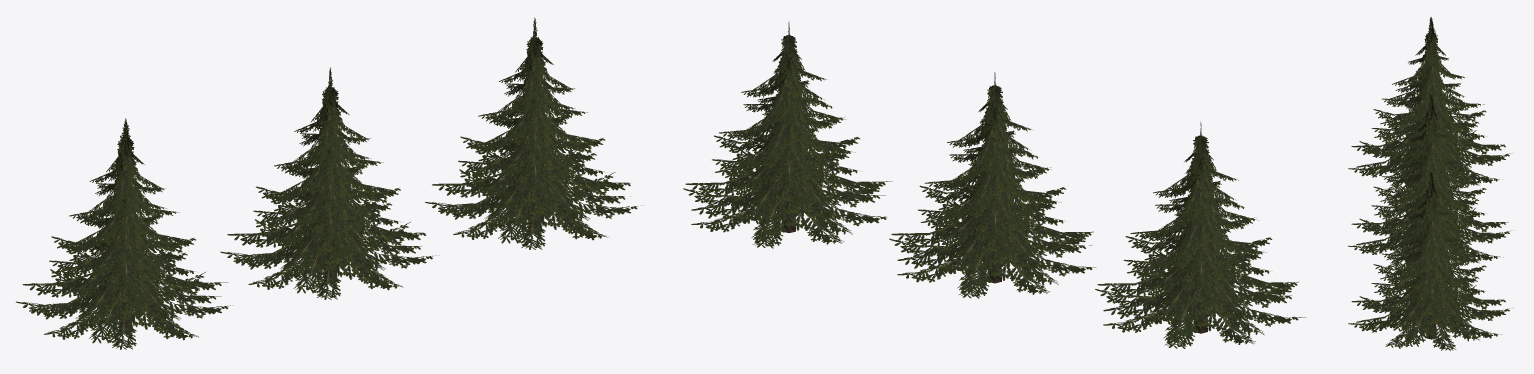
The model's file is fir_sapling_lod.glb.
3 renders of one model, left to right at view 1: azimuth 30°, elevation 25°; view 2: azimuth 150°, elevation 25°; view 3: azimuth 270°, elevation 25°, orthographic. The views are drawn at different scales.
Visible parts, largest first — view 1: fir_sapling_a, fir_sapling_c, fir_sapling_b; view 2: fir_sapling_c, fir_sapling_a, fir_sapling_b; view 3: fir_sapling_c, fir_sapling_b, fir_sapling_a.
Part boxes in pixels (x1=…): fir_sapling_a: x1=16, y1=118, x2=233, y2=349; fir_sapling_c: x1=425, y1=17, x2=644, y2=249; fir_sapling_b: x1=220, y1=67, x2=438, y2=299; fir_sapling_c: x1=683, y1=21, x2=892, y2=248; fir_sapling_a: x1=1095, y1=121, x2=1305, y2=348; fir_sapling_b: x1=889, y1=72, x2=1096, y2=298; fir_sapling_c: x1=1348, y1=172, x2=1512, y2=351; fir_sapling_b: x1=1348, y1=94, x2=1513, y2=271; fir_sapling_a: x1=1348, y1=17, x2=1512, y2=193.
Size of the model in its own units: 2.96 by 1 by 0.9603.
Materials: 1 (1 with a texture image).
